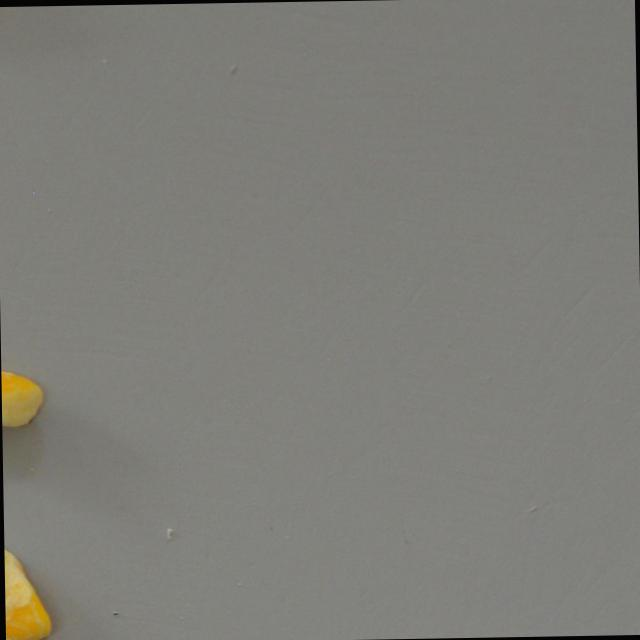dañado: (4, 535, 55, 640), (1, 361, 49, 438)
